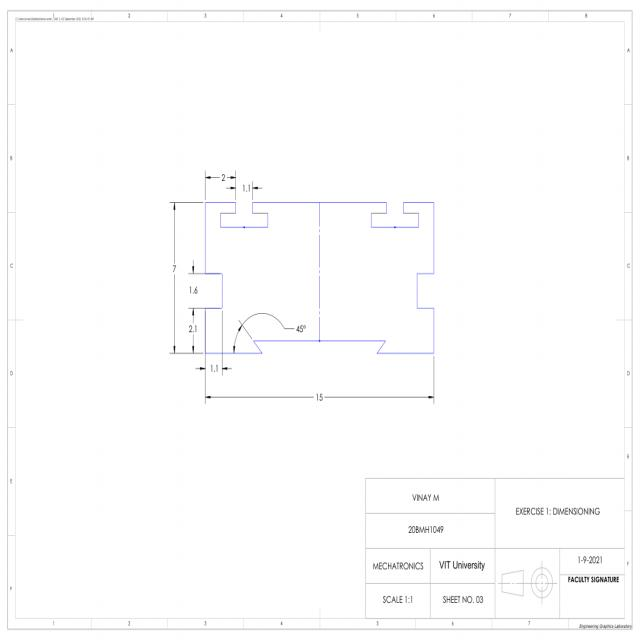Drawings: (154, 147, 452, 419)
